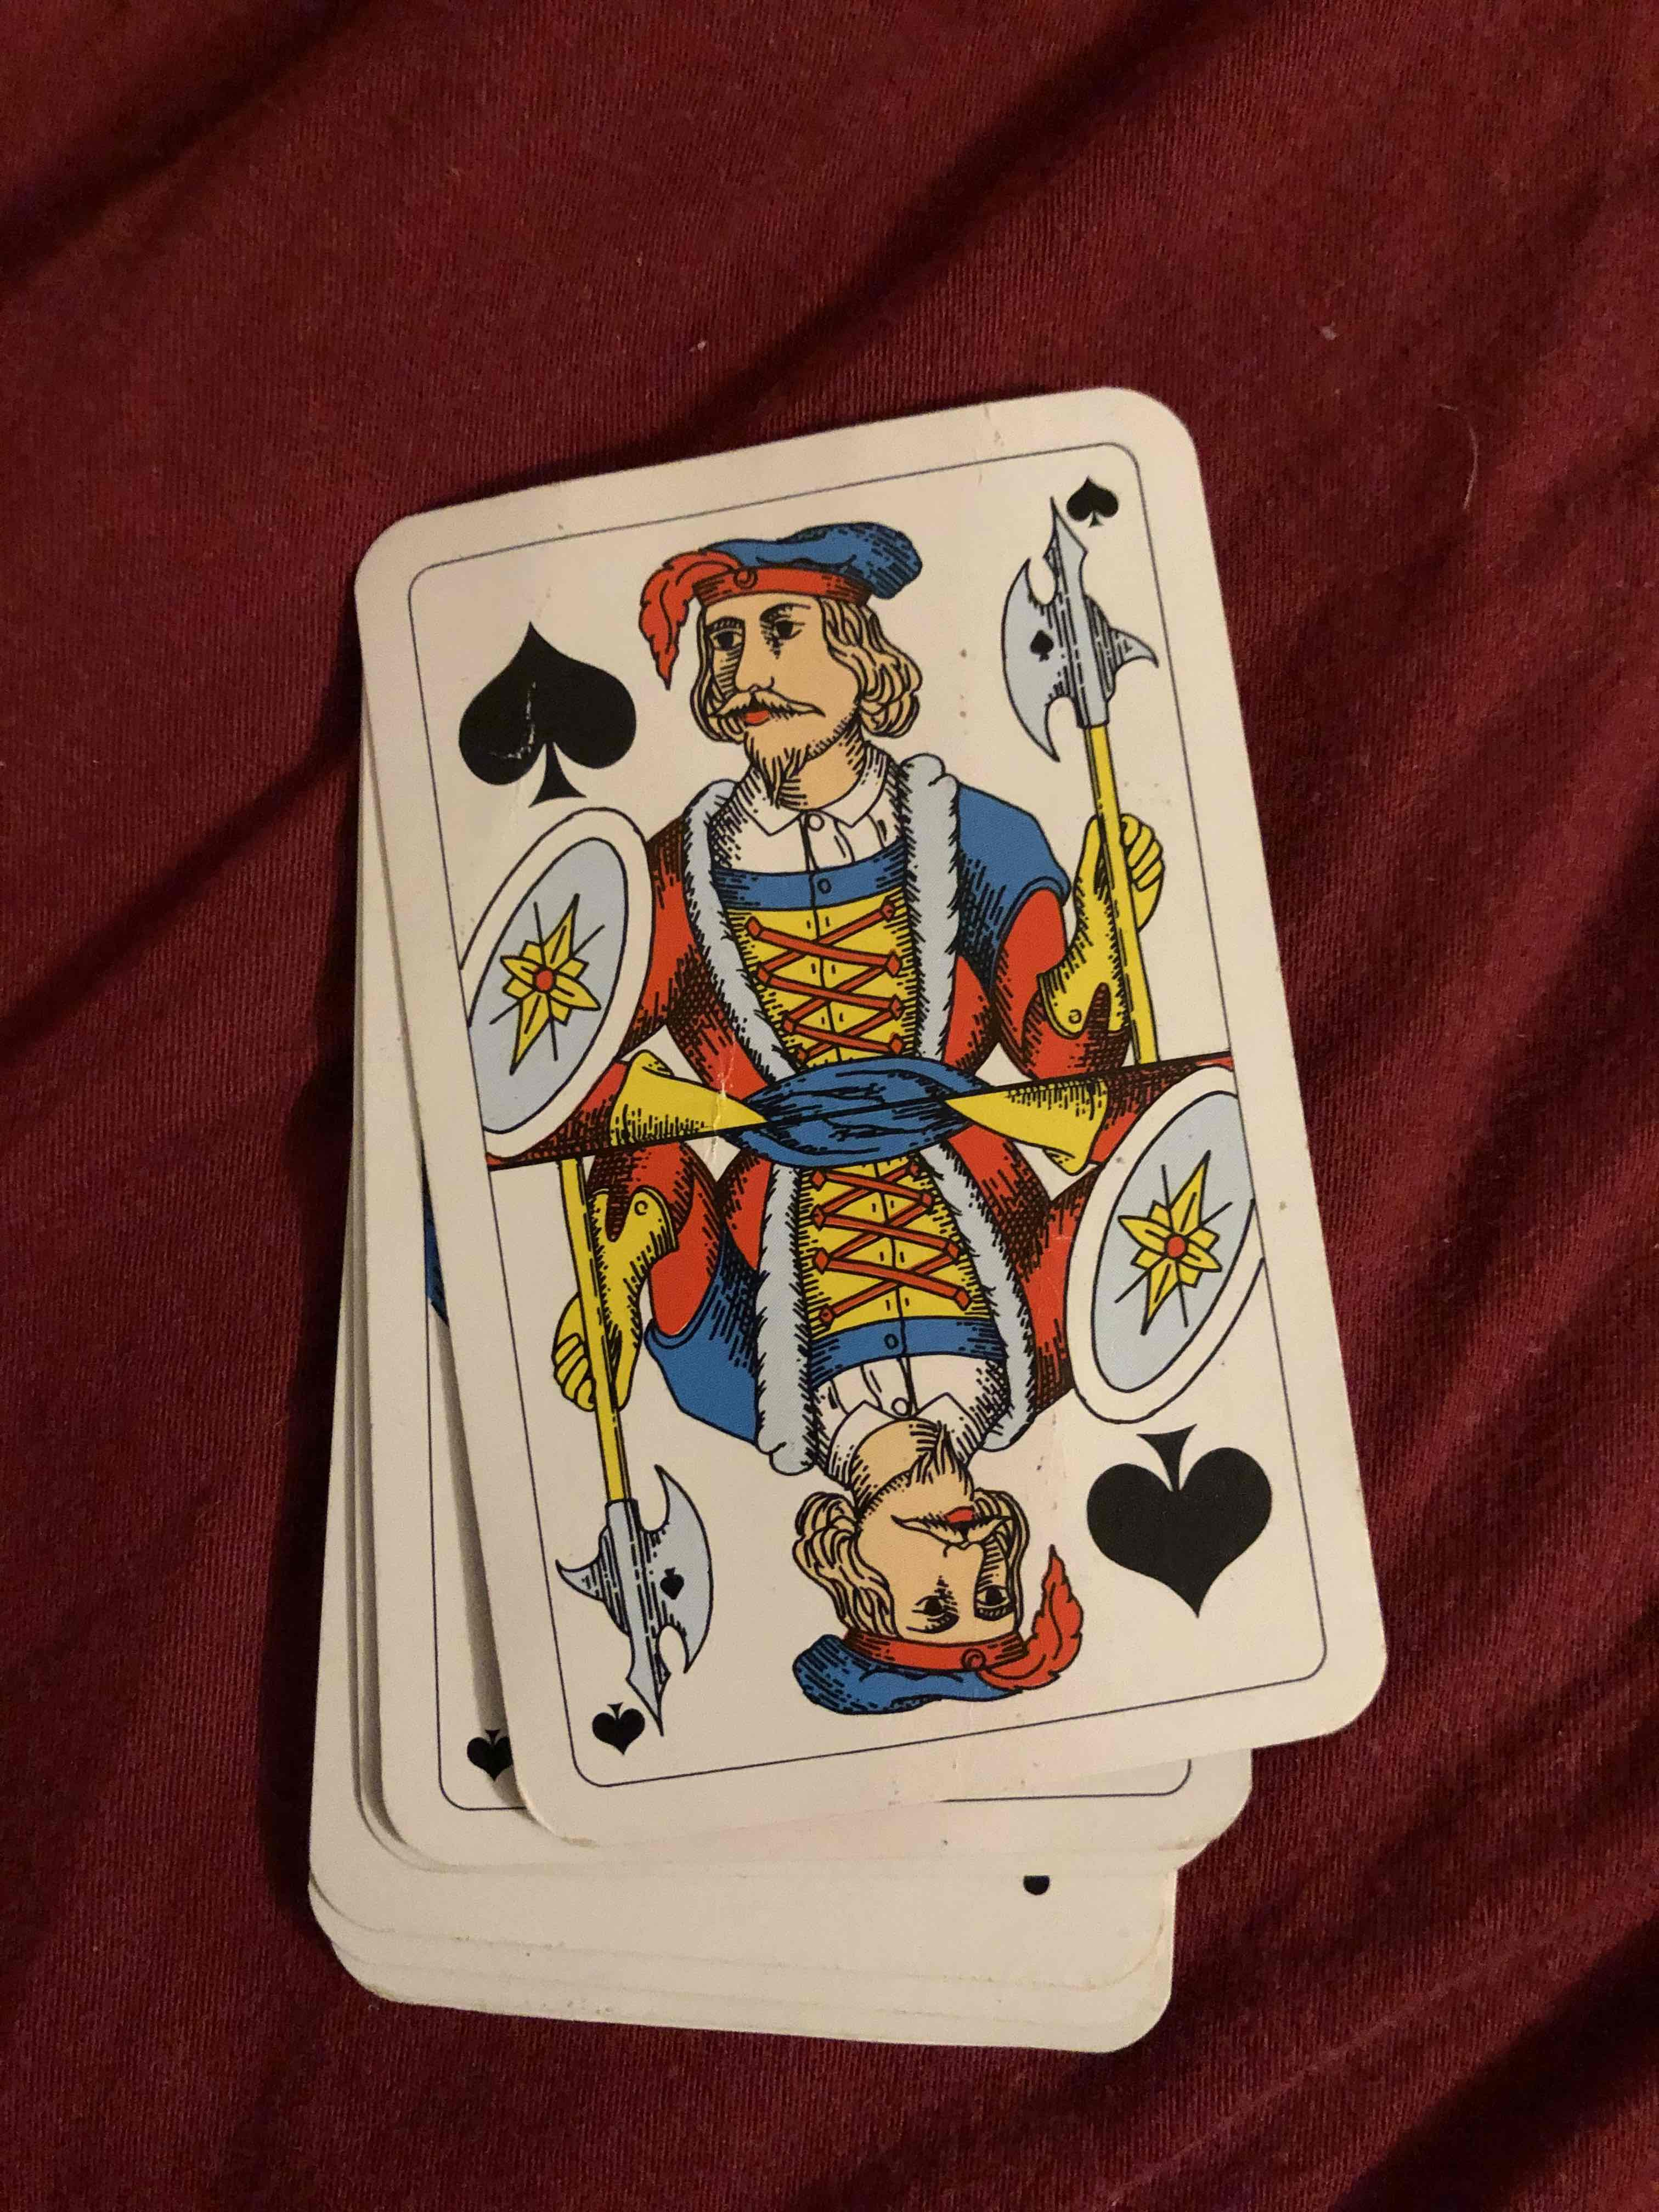spadesJack: (350, 482, 1382, 1726)
